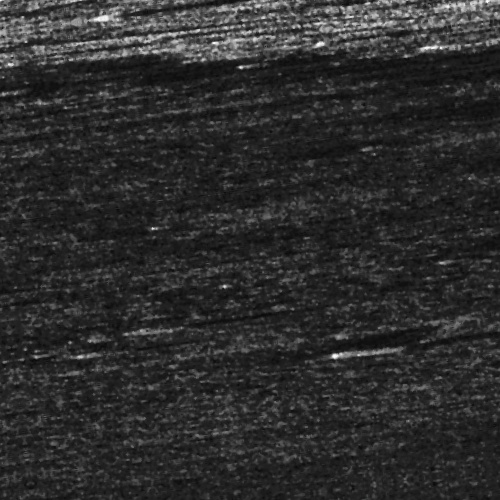object: (313, 361, 396, 370), (101, 309, 174, 316), (35, 325, 98, 330), (101, 0, 184, 1)
shadow: (355, 361, 500, 370), (138, 309, 306, 316), (67, 325, 150, 330), (143, 0, 298, 1)
